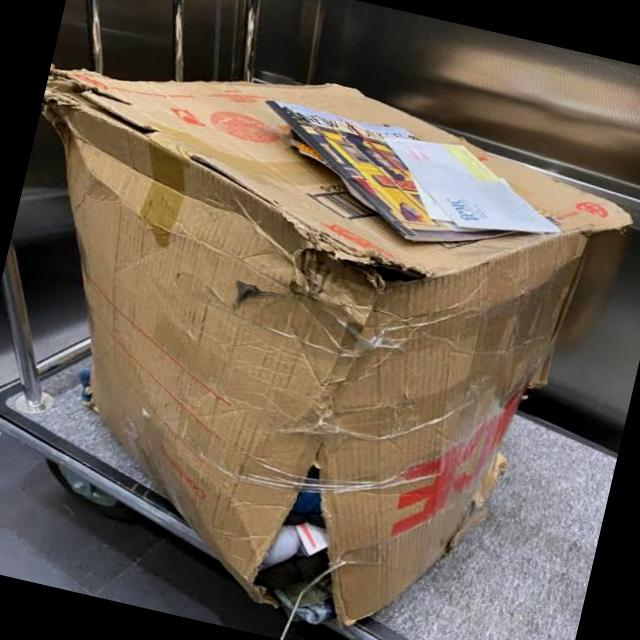package_damage: (11, 56, 482, 333), (206, 332, 460, 640), (550, 178, 640, 283)
